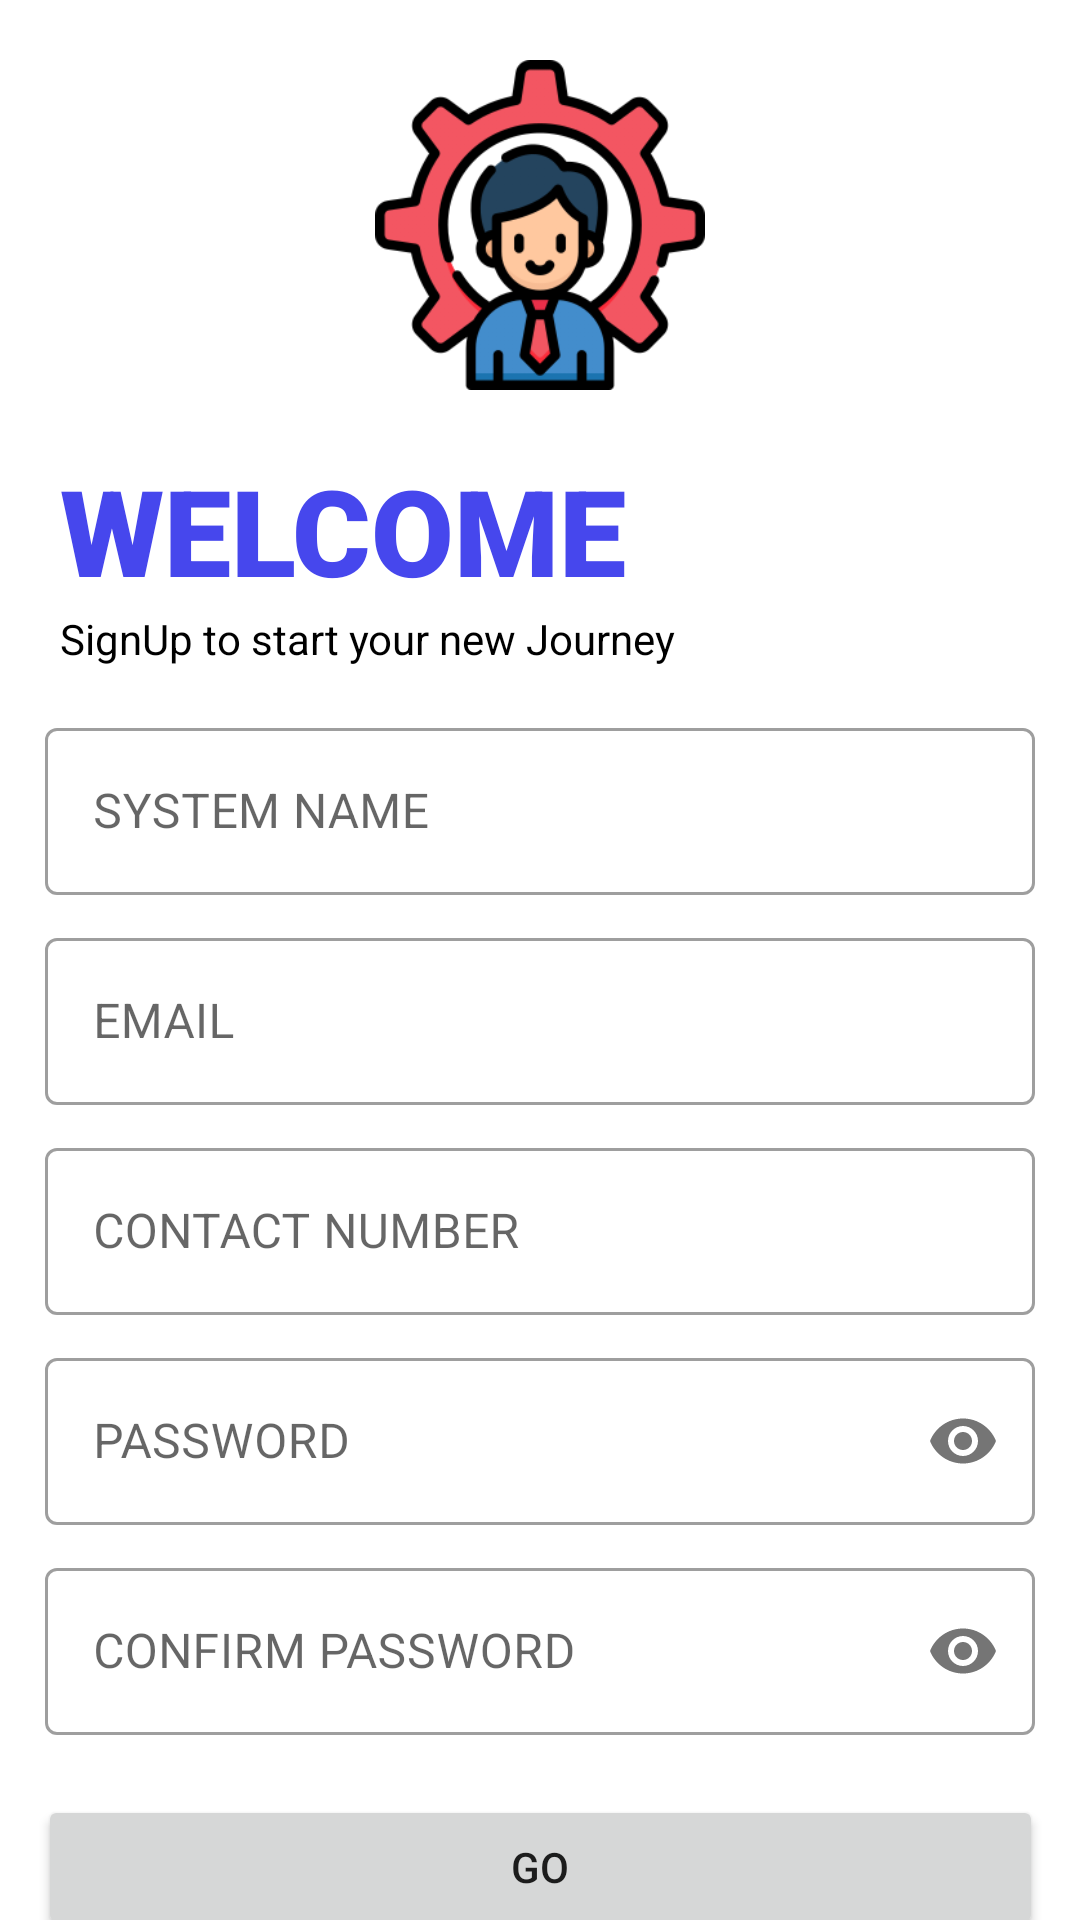

Where to tap for icons on this 1080*1920 app screen, as (x,y):
manager: (540,225)
